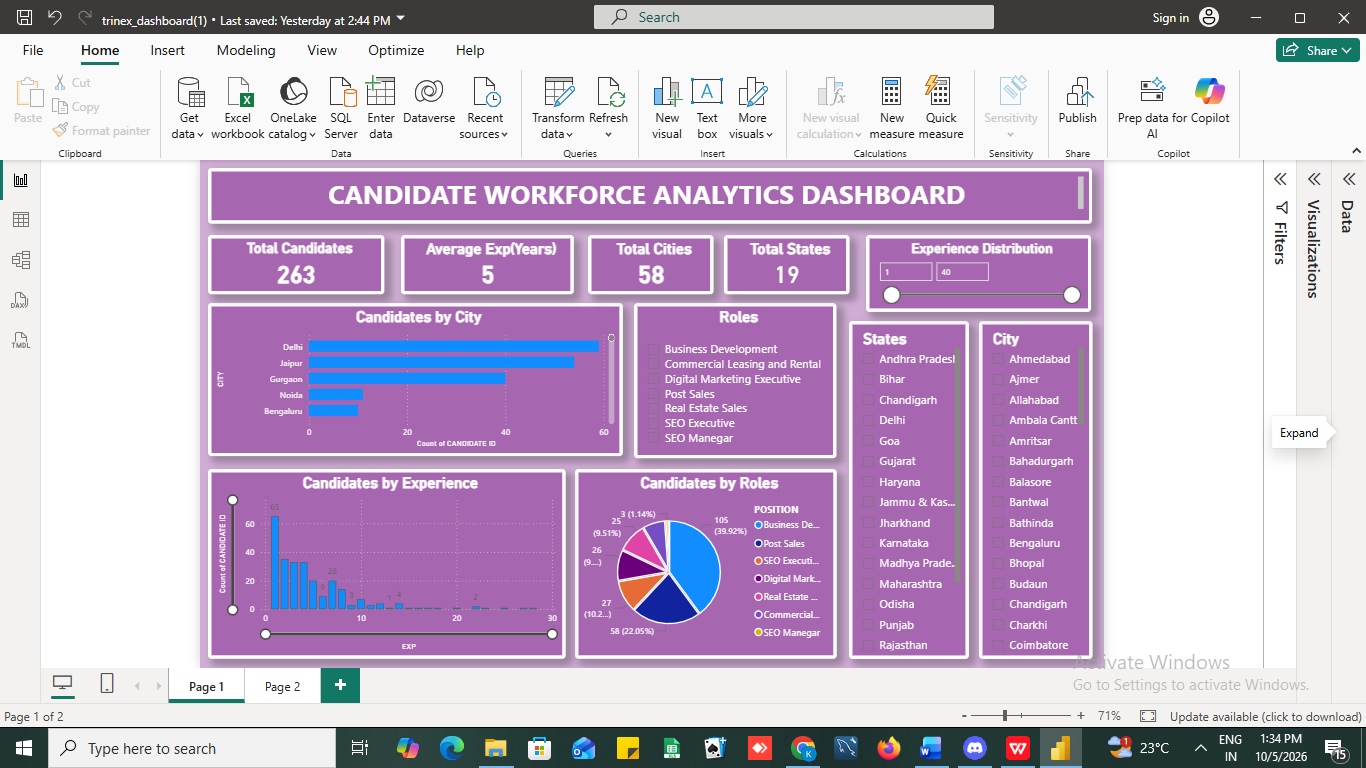

Layout of this report page (visuals, bound fields, positions):
{"tool":"powerbi","page":{"name":"Page 1","canvas":[1280,720],"ordinal":0},"visuals":[{"type":"clusteredBarChart","title":"Candidates by City","fields":{"Category":["Sheet1.CITY"],"Y":["CountNonNull(Sheet1.CANDIDATE ID)"]},"box":[11.8,203.3,587.9,216.7],"z":0},{"type":"pieChart","title":"Candidates by Roles","fields":{"Category":["Sheet1.POSITION"],"Y":["CountNonNull(Sheet1.CANDIDATE ID)"]},"box":[530.8,438.4,371.2,268.8],"z":1000},{"type":"clusteredColumnChart","title":"Candidates by Experience","fields":{"Category":["Sheet1.EXP"],"Y":["CountNonNull(Sheet1.CANDIDATE ID)"]},"box":[11.8,438.4,507.3,268.8],"z":2000},{"type":"slicer","fields":{"Values":["Sheet1.CITY"]},"box":[1103.6,228.5,161.3,478.7],"z":3000},{"type":"slicer","fields":{"Values":["Sheet1.STATE"]},"box":[920.5,228.5,169.7,478.7],"z":4000},{"type":"slicer","title":"Experience Distribution","fields":{"Values":["Sheet1.EXP"]},"box":[944,105.8,319.2,109.2],"z":5000},{"type":"slicer","title":"Roles","fields":{"Values":["Sheet1.POSITION"]},"box":[614.8,203.3,287.2,220.1],"z":6000},{"type":"card","title":"Total Candidates","fields":{"Values":["Sheet1.Total_Candidate"]},"box":[11.8,105.8,250.3,84],"z":7000},{"type":"card","title":"Average Exp(Years)","fields":{"Values":["Sheet1.Average_Exp(Years)"]},"box":[285.6,105.8,245.2,84],"z":8000},{"type":"card","title":"Total Cities","fields":{"Values":["Sheet1.Total_cities"]},"box":[549.3,105.8,178.1,84],"z":9000},{"type":"card","title":"Total States","fields":{"Values":["Sheet1.Total_State"]},"box":[742.5,105.8,178.1,84],"z":10000},{"type":"textbox","box":[11.8,11.8,1253.1,79],"z":10001}]}

Visuals, with their boxes on the page's 1280x720 design canvas (x1, y1, x2, y2). These are canvas units, not pixel positions in the 1366x768 screenshot, which may show the page scaled, cropped or inside an application window:
"Candidates by City" clusteredBarChart: detection(12, 203, 600, 420)
"Candidates by Roles" pieChart: detection(531, 438, 902, 707)
"Candidates by Experience" clusteredColumnChart: detection(12, 438, 519, 707)
slicer - Sheet1.CITY: detection(1104, 228, 1265, 707)
slicer - Sheet1.STATE: detection(920, 228, 1090, 707)
"Experience Distribution" slicer: detection(944, 106, 1263, 215)
"Roles" slicer: detection(615, 203, 902, 423)
"Total Candidates" card: detection(12, 106, 262, 190)
"Average Exp(Years)" card: detection(286, 106, 531, 190)
"Total Cities" card: detection(549, 106, 727, 190)
"Total States" card: detection(742, 106, 921, 190)
textbox: detection(12, 12, 1265, 91)
